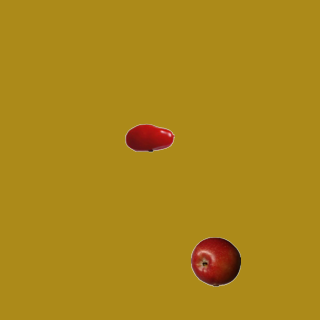Apple Braeburn: (190, 236, 240, 286)
Tomato 2: (124, 112, 174, 162)
